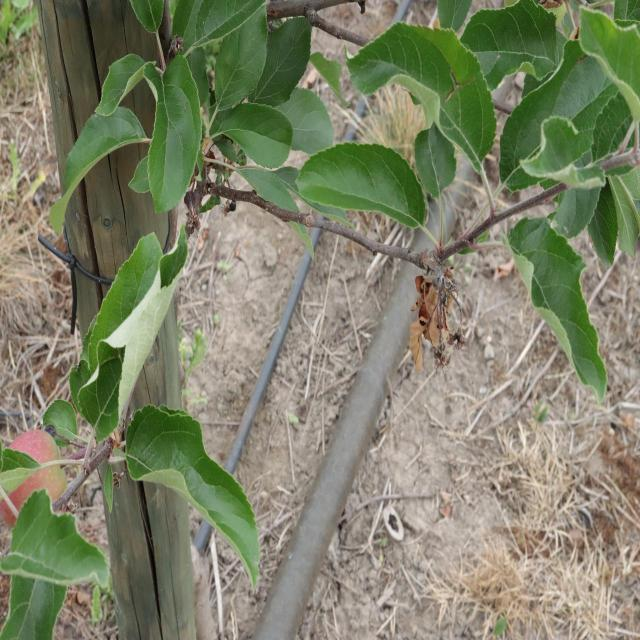-FireBlight-: (408, 251, 460, 361)
